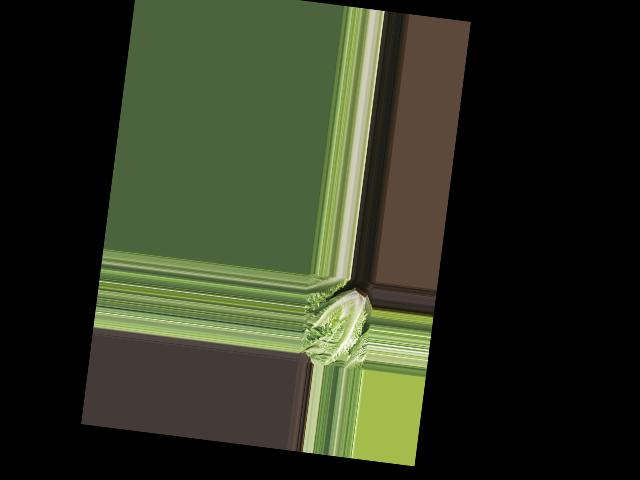lettuce: (302, 278, 376, 369)
